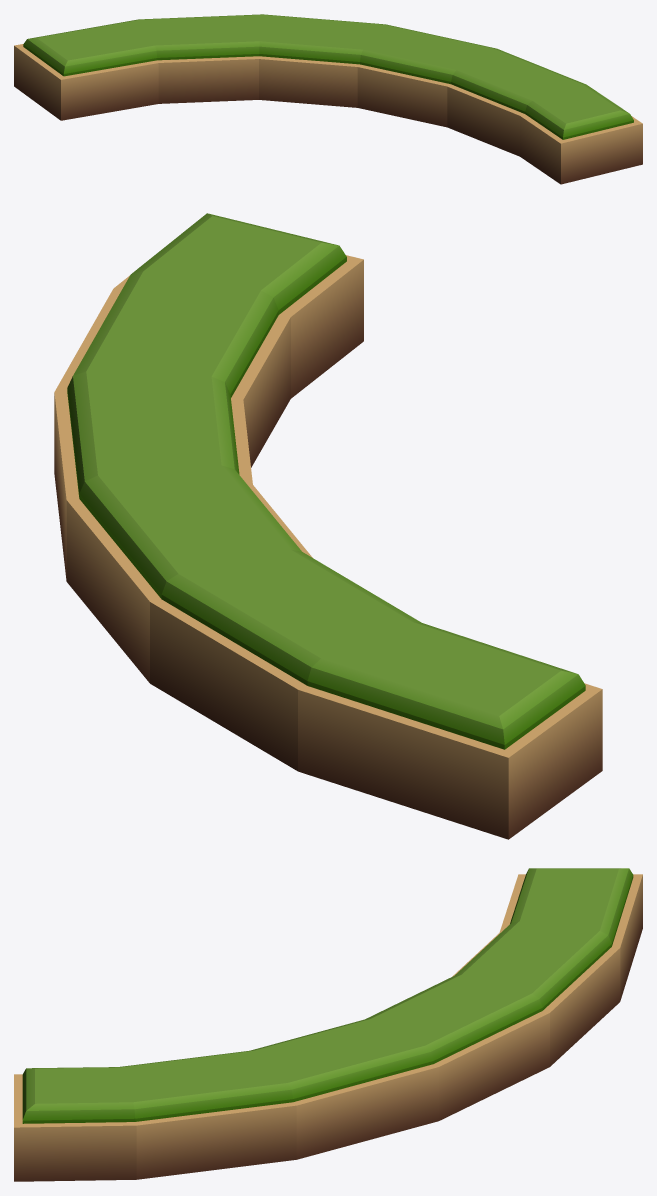
File: UTurn_Grass.fbx
3 views of the same model, one above another, from view 1: azimuth 30°, elevation 25°; view 2: azimuth 150°, elevation 25°; view 3: azimuth 270°, elevation 25° (orthographic). The views are drawn at different scales.
Parts seen in each view (by area): view 1: UTurn_Grass; view 2: UTurn_Grass; view 3: UTurn_Grass.
Part boxes in pixels (x1,y1,x2,y2): UTurn_Grass: (14,14,642,184); UTurn_Grass: (54,213,602,839); UTurn_Grass: (14,868,642,1181).
Size of the model in its own units: 384 by 48.52 by 402.
